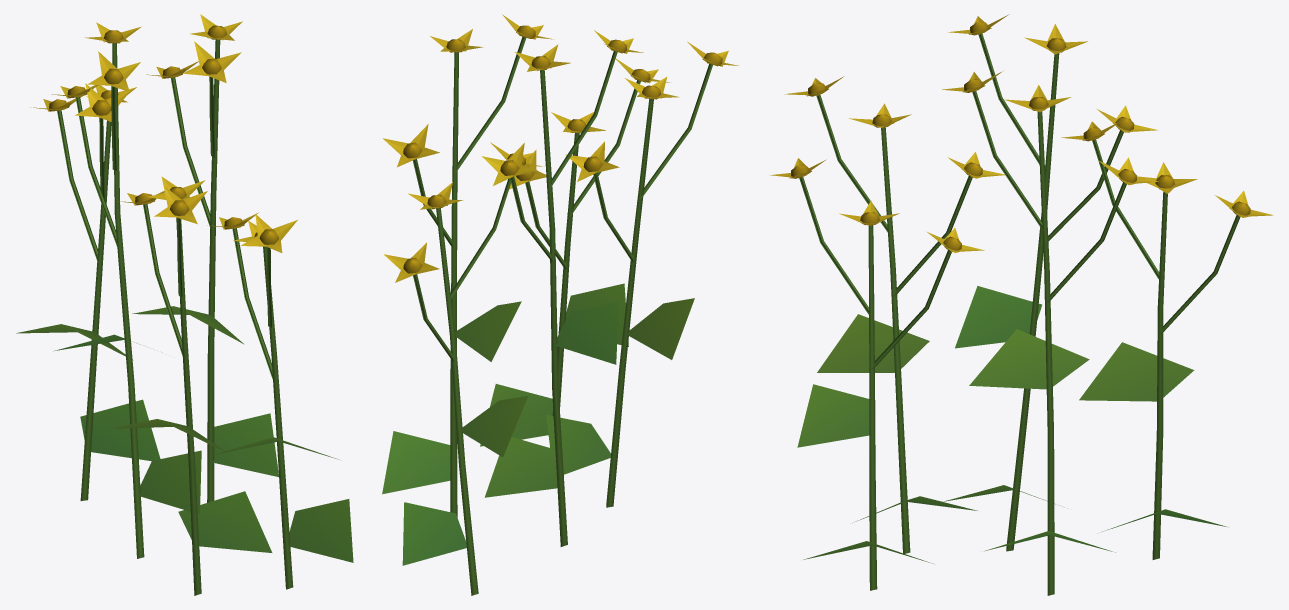
Rendered from flower-buttercup-b.lod1.glb.
3 views of the same model, side by side, from view 1: azimuth 30°, elevation 25°; view 2: azimuth 150°, elevation 25°; view 3: azimuth 270°, elevation 25° (orthographic).
Visible parts, largest first — view 1: flower-buttercup-b.lod1; view 2: flower-buttercup-b.lod1; view 3: flower-buttercup-b.lod1.
Boxes of the visible parts, x1,y1,x2,y2 form: flower-buttercup-b.lod1: (16,14,353,595); flower-buttercup-b.lod1: (382,14,738,595); flower-buttercup-b.lod1: (770,14,1273,595).
Size of the model in its own units: 0.1546 by 0.3269 by 0.2899.
